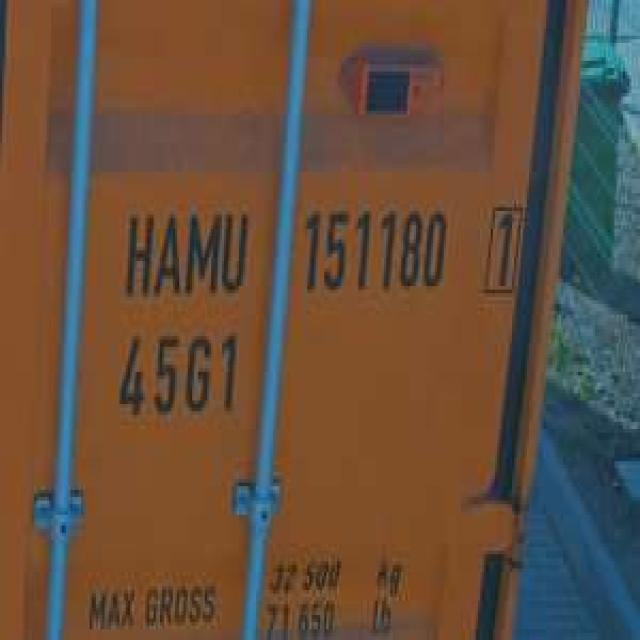dv: (476, 197, 528, 299)
owner: (117, 195, 252, 306)
serial: (301, 195, 453, 302)
size: (109, 321, 244, 434)
